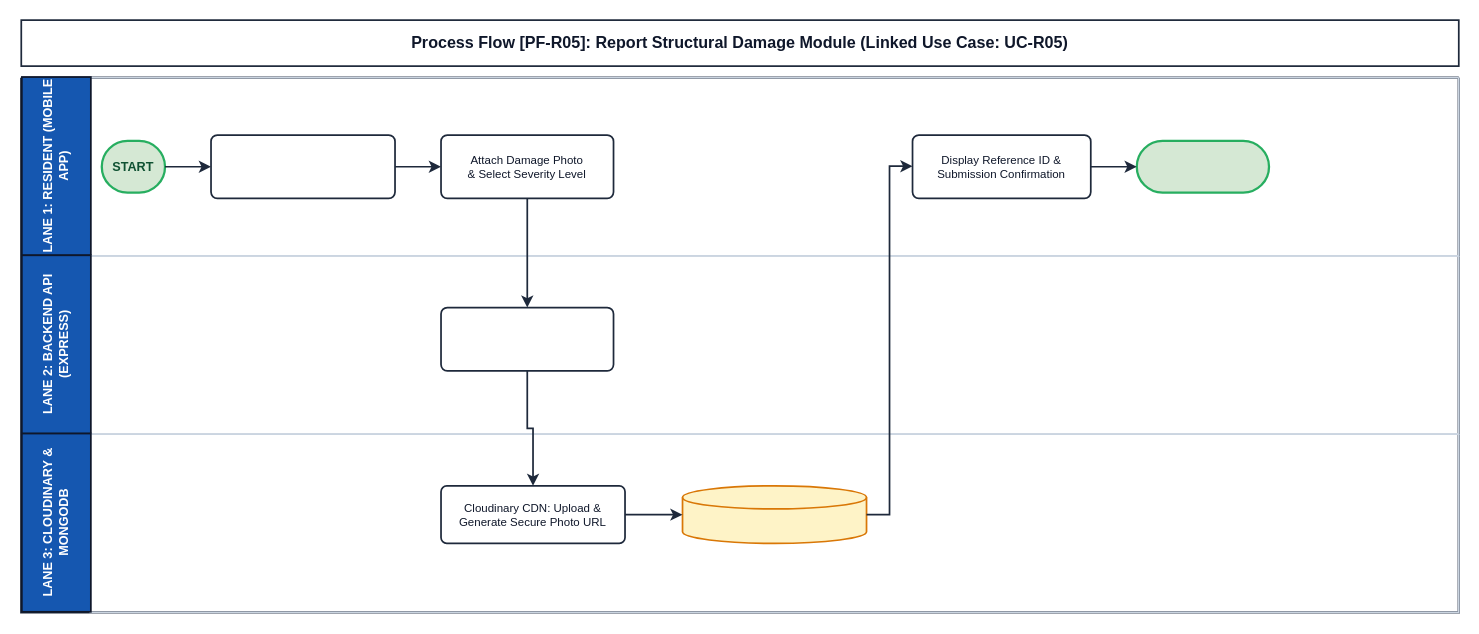
The diagram is 1479 pixels wide and 634 high, and some of its shapes have lost their labels. The centre of each missing label's shape, as x and y in pixels:
"END (Report Saved)" goes at (x=1202, y=166).
"MongoDB: Save DamageReport; Update GIS Heatmap Layer" goes at (x=774, y=514).
"Open Damage Report; Auto-Capture GPS Coordinates" goes at (x=302, y=166).
"POST /api/damage-reports with Image Payload" goes at (x=527, y=338).
